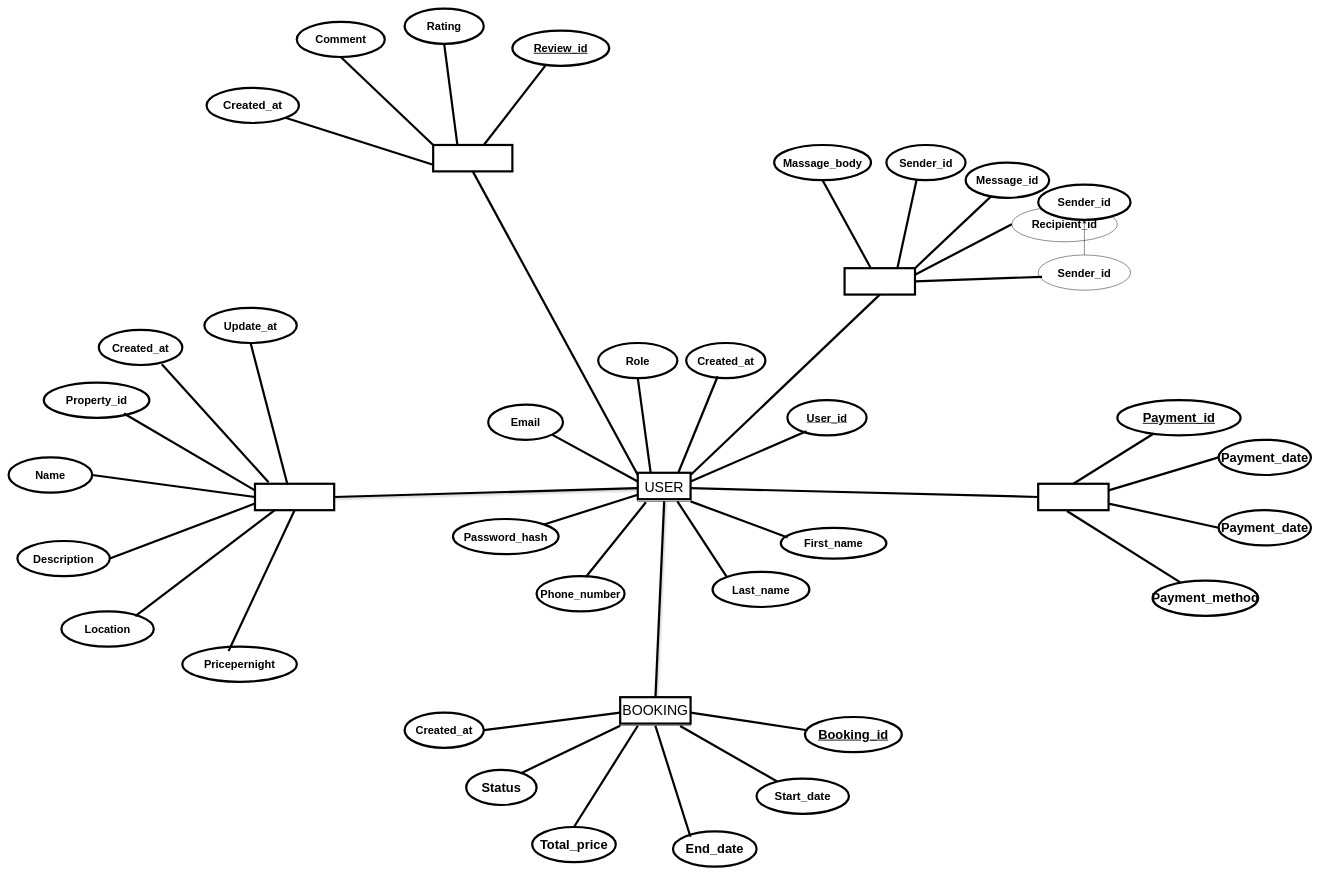
Some shapes in this 1320 by 877 pixel diagram are drawn without their labels. The shapes that lost their labels are listed below. From the top down, each one's centre as x and y in pixels, then its label:
At point 472,158: "REVIEW".
At point 879,281: "MESSAGE".
At point 294,496: "PROPERTY".
At point 1073,496: "PAYMENT".
